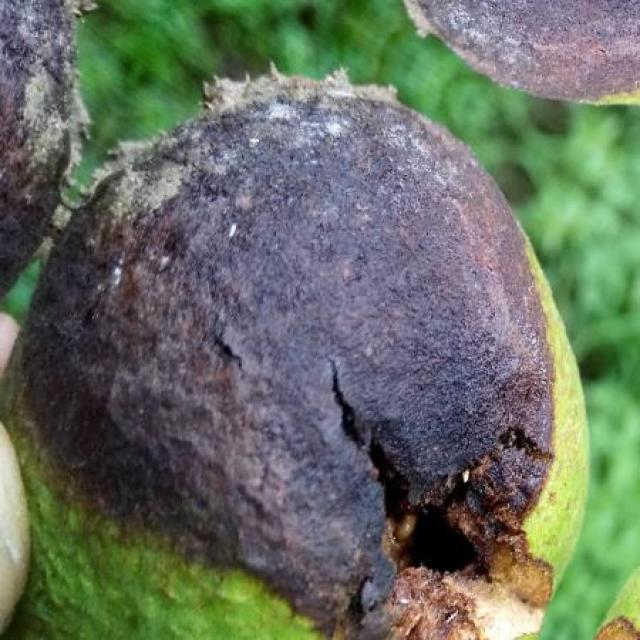Phytopthora: (0, 0, 589, 640), (406, 0, 640, 98)
